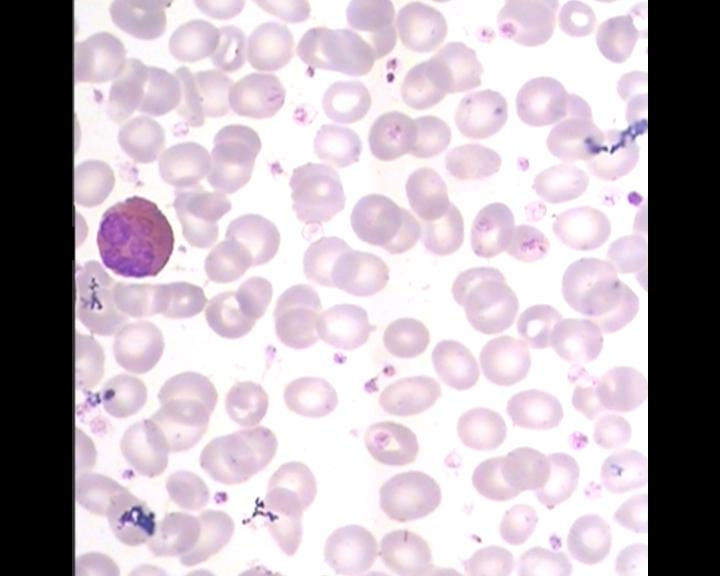eosi: (91, 193, 177, 281)
